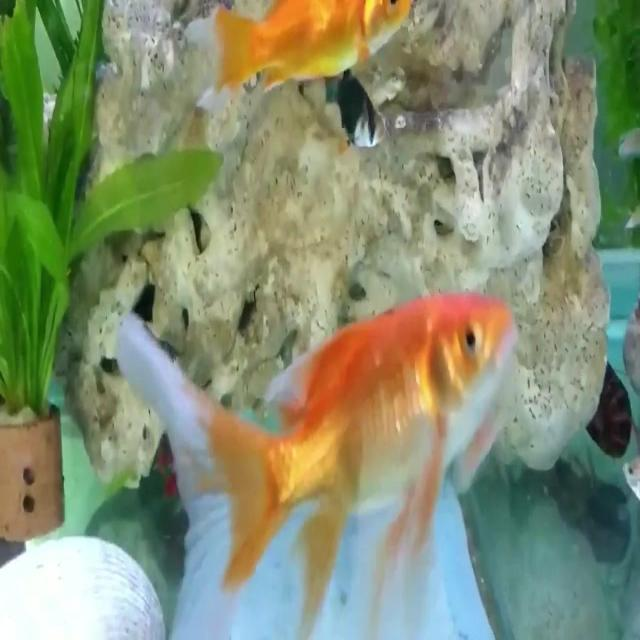GoldFish: (111, 282, 526, 640), (215, 0, 415, 94)
